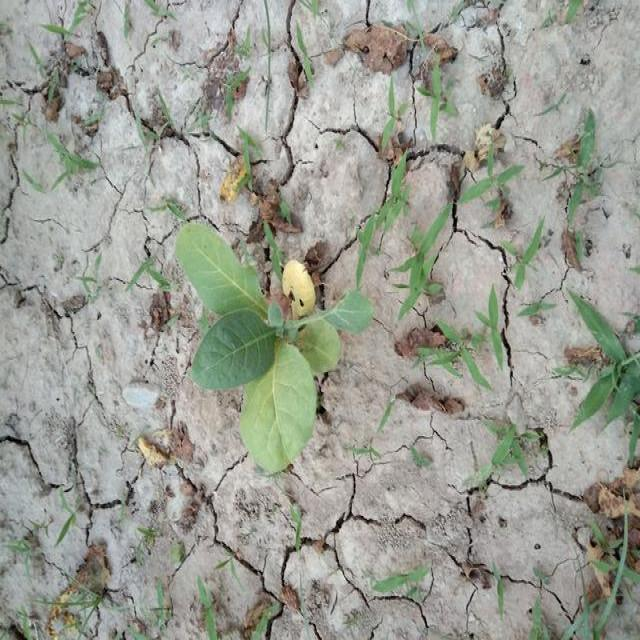crop: (170, 207, 380, 481)
